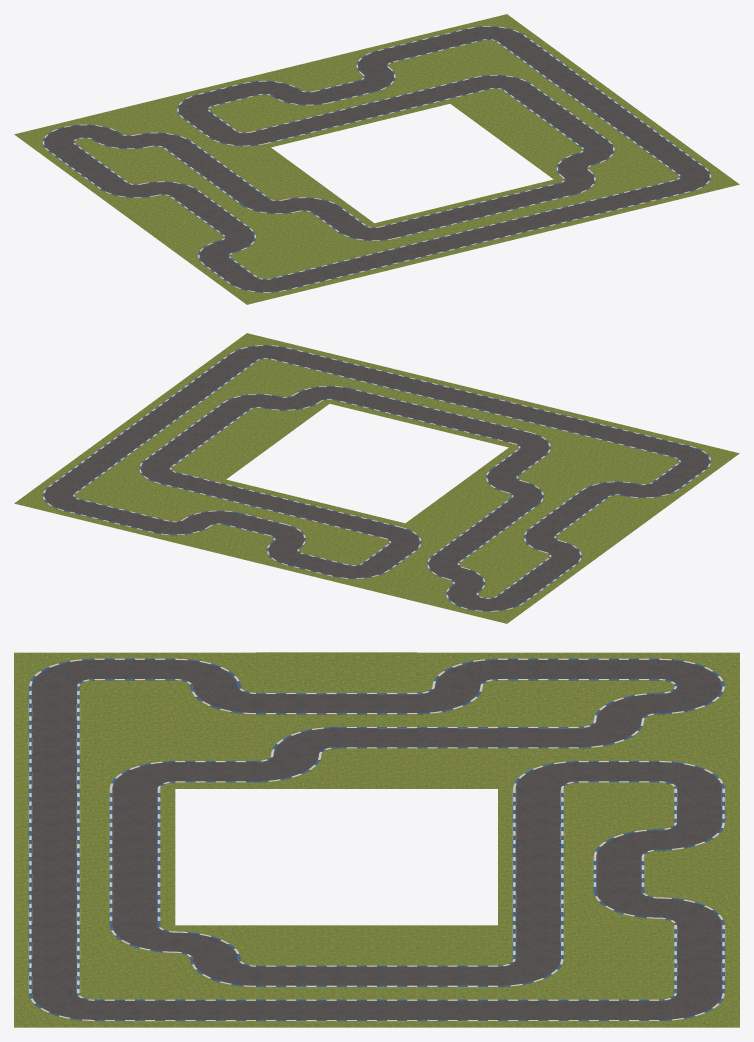
File: Track3.glb
3 views of the same model, one above another, from view 1: azimuth 30°, elevation 25°; view 2: azimuth 150°, elevation 25°; view 3: azimuth 270°, elevation 25° (orthographic). The views are drawn at different scales.
Visible parts, largest first — view 1: Desert_mod_03_flat.047, Desert_mod_03_flat.035, Forest_mod_01_straight.107, Forest_mod_01_straight.123, Desert_mod_03_flat.036, Desert_mod_03_flat.046, Desert_mod_03_flat.034, Forest_mod_01_straight.105, Forest_mod_01_straight.109, Forest_mod_01_straight.110, Forest_mod_01_straight.113, Forest_mod_01_straight.116 (+95 smaller); view 2: Desert_mod_03_flat.049, Forest_mod_01_straight.061, Forest_mod_01_straight.090, Forest_mod_01_straight.108, Desert_mod_03_flat.038, Desert_mod_03_flat.035, Forest_mod_01_straight.096, Forest_mod_01_straight.099, Forest_mod_01_straight.104, Forest_mod_01_straight.105, Forest_mod_01_straight.107, Forest_mod_01_straight.114 (+95 smaller); view 3: Forest_mod_01_straight.098, Forest_mod_01_straight.101, Forest_mod_01_straight.114, Desert_mod_03_flat.039, Desert_mod_03_flat.034, Desert_mod_03_flat.035, Forest_mod_01_straight.095, Forest_mod_01_straight.106, Forest_mod_01_straight.115, Forest_mod_01_straight.103, Forest_mod_01_straight.127, Desert_mod_03_flat.037 (+95 smaller).
Boxes of the visible parts, <box> form: Desert_mod_03_flat.047: <box>502,130,572,160</box>; Desert_mod_03_flat.035: <box>285,234,354,263</box>; Forest_mod_01_straight.107: <box>181,158,251,188</box>; Forest_mod_01_straight.123: <box>418,25,487,54</box>; Desert_mod_03_flat.036: <box>283,58,353,87</box>; Desert_mod_03_flat.046: <box>252,166,322,196</box>; Desert_mod_03_flat.034: <box>240,245,309,274</box>; Forest_mod_01_straight.105: <box>304,204,373,233</box>; Forest_mod_01_straight.109: <box>464,190,534,220</box>; Forest_mod_01_straight.110: <box>509,179,579,209</box>; Forest_mod_01_straight.113: <box>514,52,584,81</box>; Forest_mod_01_straight.116: <box>188,207,258,236</box>; Desert_mod_03_flat.049: <box>181,449,251,479</box>; Forest_mod_01_straight.061: <box>266,344,335,373</box>; Forest_mod_01_straight.090: <box>445,388,515,417</box>; Forest_mod_01_straight.108: <box>424,534,494,563</box>; Desert_mod_03_flat.038: <box>240,363,309,392</box>; Desert_mod_03_flat.035: <box>554,439,623,469</box>; Forest_mod_01_straight.096: <box>464,417,534,447</box>; Forest_mod_01_straight.099: <box>169,371,239,400</box>; Forest_mod_01_straight.104: <box>514,556,584,585</box>; Forest_mod_01_straight.105: <box>483,447,553,477</box>; Forest_mod_01_straight.107: <box>450,515,520,544</box>; Forest_mod_01_straight.114: <box>40,466,109,495</box>; Forest_mod_01_straight.098: <box>94,993,175,1027</box>; Forest_mod_01_straight.101: <box>336,993,417,1027</box>; Forest_mod_01_straight.114: <box>578,993,659,1027</box>; Desert_mod_03_flat.039: <box>336,652,417,686</box>; Desert_mod_03_flat.034: <box>94,686,175,720</box>; Desert_mod_03_flat.035: <box>94,720,175,754</box>; Forest_mod_01_straight.095: <box>94,652,175,686</box>; Forest_mod_01_straight.106: <box>336,720,417,754</box>; Forest_mod_01_straight.115: <box>578,652,659,686</box>; Forest_mod_01_straight.103: <box>336,686,417,720</box>; Forest_mod_01_straight.127: <box>578,754,659,788</box>; Desert_mod_03_flat.037: <box>578,959,659,993</box>.
Bounding box in the file's own units: 176 × 0.03 × 144.
Materials: 4 (4 with a texture image).
